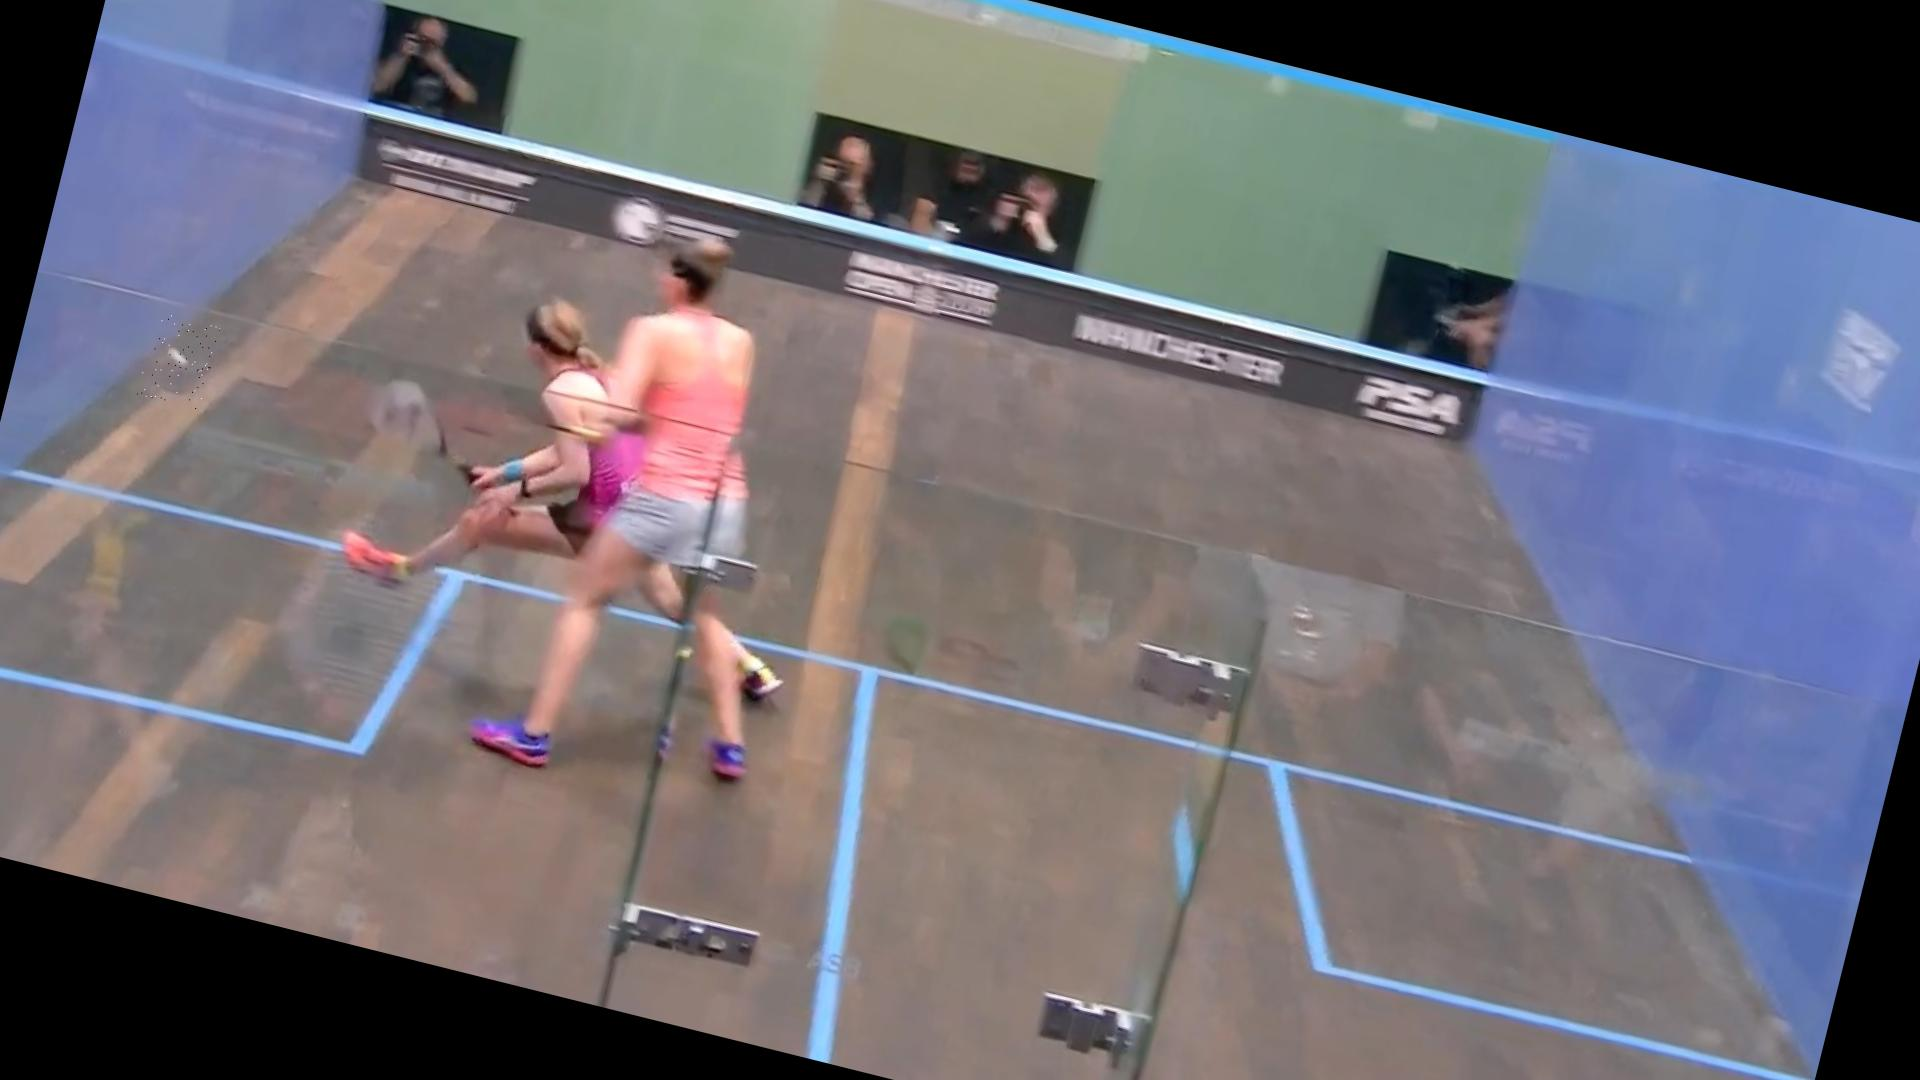Squash-Ball: (137, 313, 222, 411)
